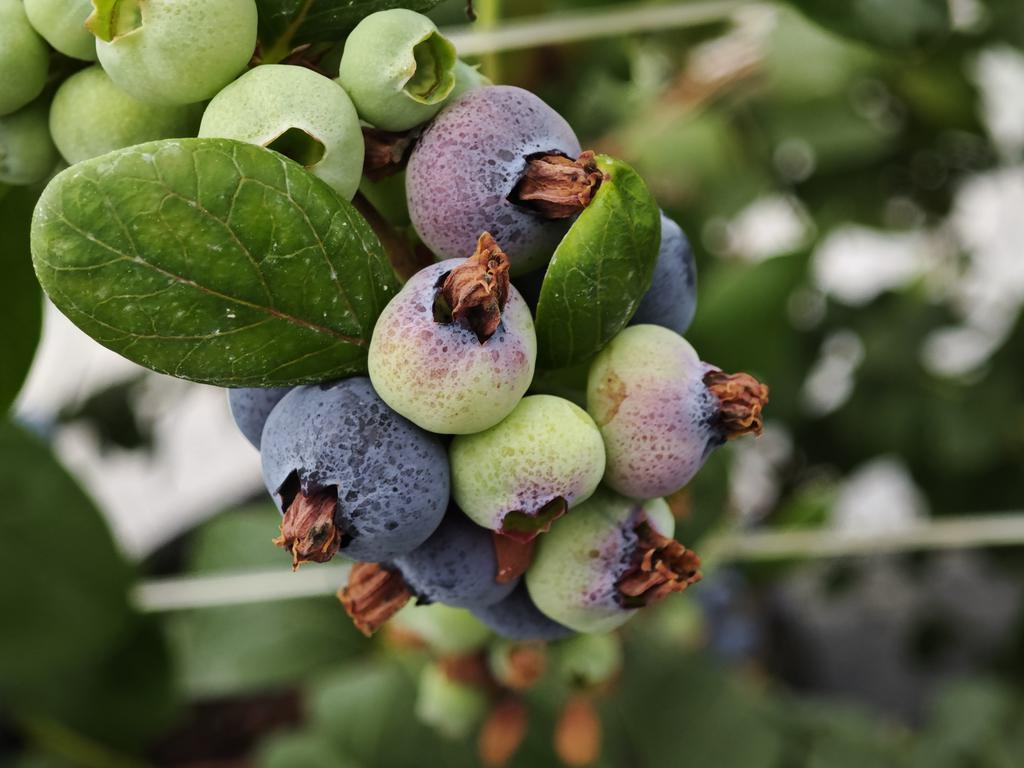RipeBlueBerry: (257, 369, 453, 564)
Semi-RipeBlueBerry: (404, 84, 600, 271)
UnripeBlueBerry: (365, 255, 542, 438), (592, 322, 739, 503)
